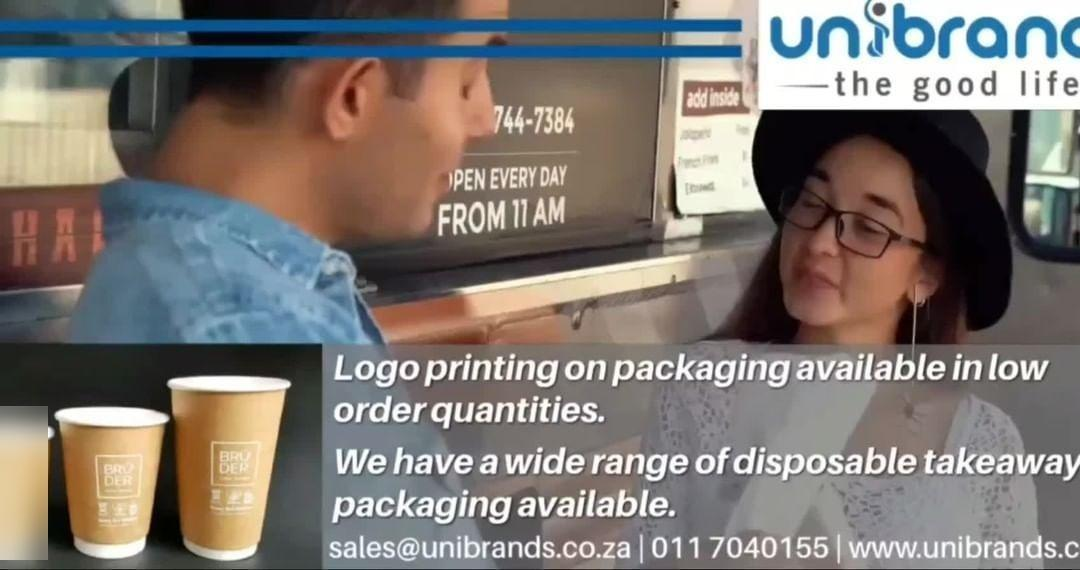cup-disposable: (167, 367, 289, 563), (57, 396, 170, 570)
